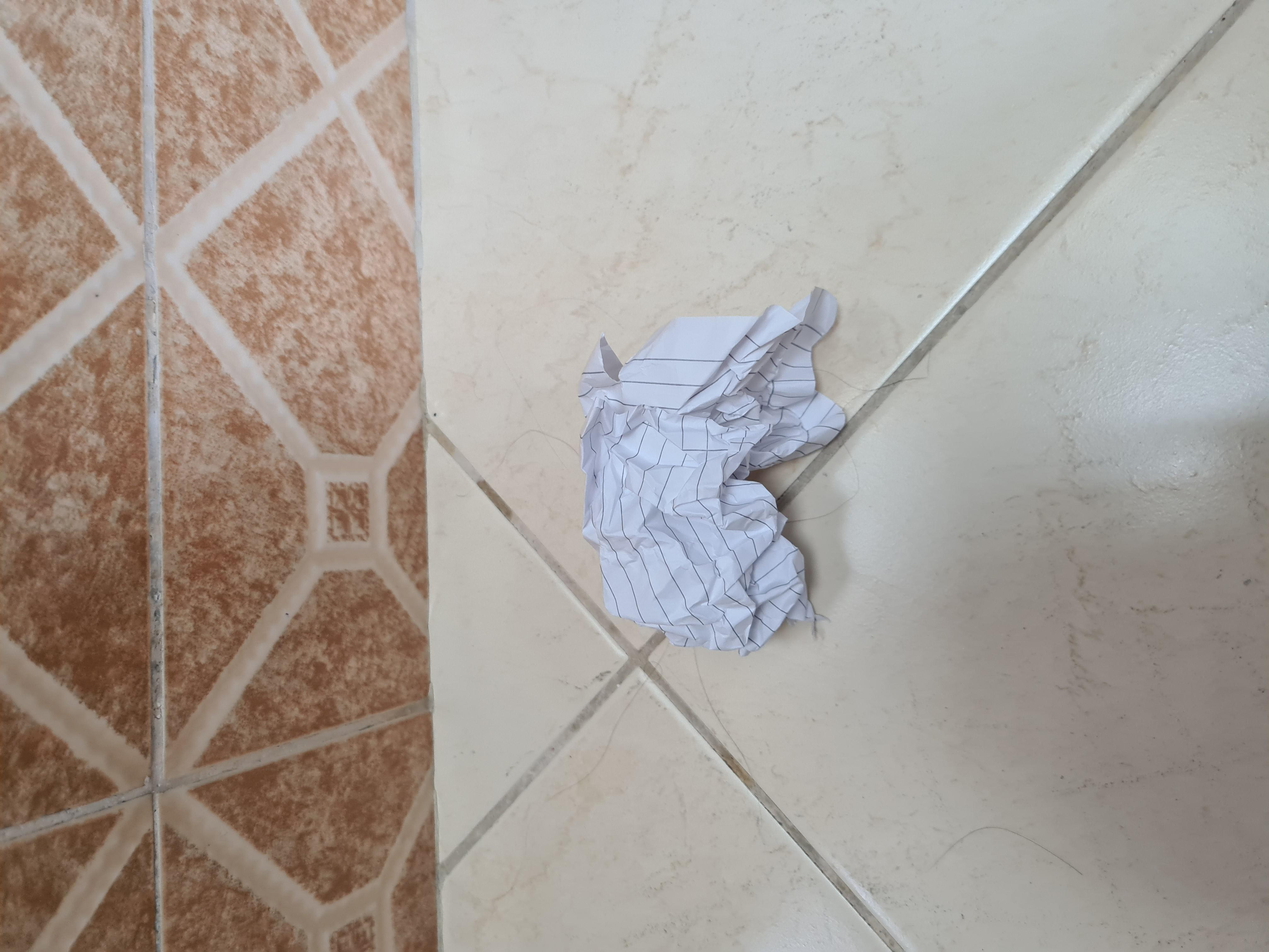paper: (416, 433, 858, 636)
